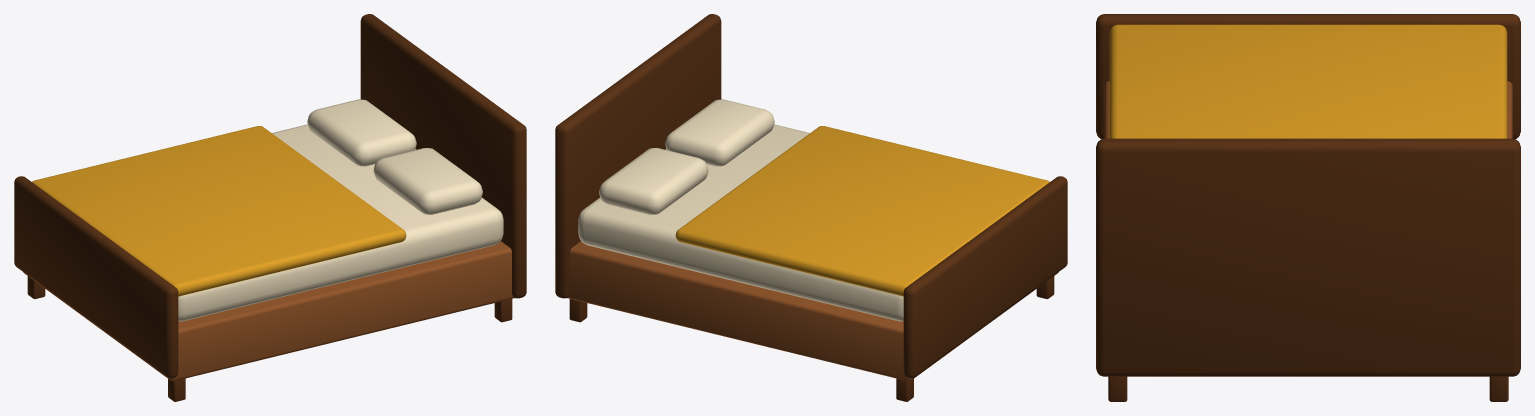
File: bed.glb
3 renders of one model, left to right at view 1: azimuth 30°, elevation 25°; view 2: azimuth 150°, elevation 25°; view 3: azimuth 270°, elevation 25°, orthographic. The views are drawn at different scales.
Parts seen in each view (by area): view 1: bed; view 2: bed; view 3: bed.
Boxes of the visible parts, bbox=[...] form: bed: bbox=[14, 14, 526, 401]; bed: bbox=[555, 14, 1067, 401]; bed: bbox=[1096, 14, 1520, 401].
Bounding box in the file's own units: 2.07 × 1.08 × 1.56.
